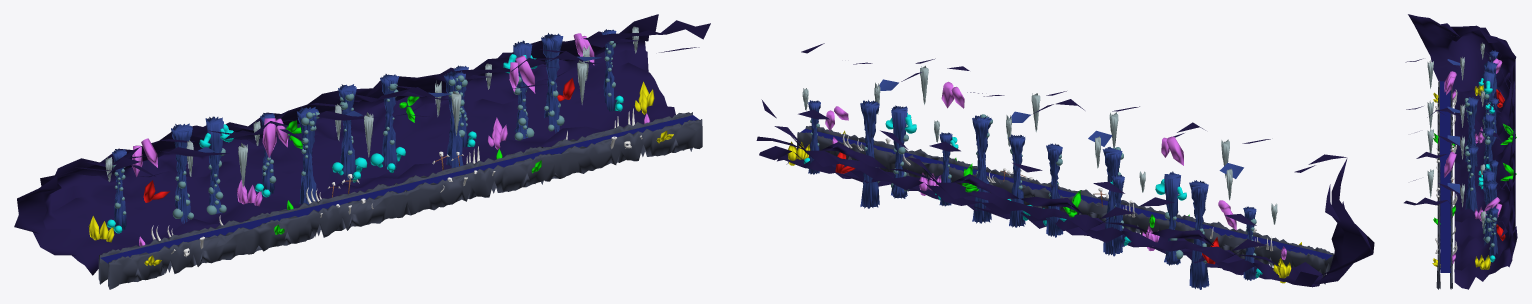
Rendered from ステージ.fbx.
The picture shows the model from 3 angles, left to right: view 1: azimuth 30°, elevation 25°; view 2: azimuth 150°, elevation 25°; view 3: azimuth 270°, elevation 25°; orthographic projection. The views are drawn at different scales.
Visible parts, largest first — view 1: 立方体.006; view 2: 立方体.006; view 3: 立方体.006.
Part boxes in pixels (<box>): 立方体.006: <box>14,14,710,289</box>; 立方体.006: <box>756,43,1374,289</box>; 立方体.006: <box>1404,14,1517,289</box>.
Bounding box in the file's own units: 22395 × 4587 × 5072.
